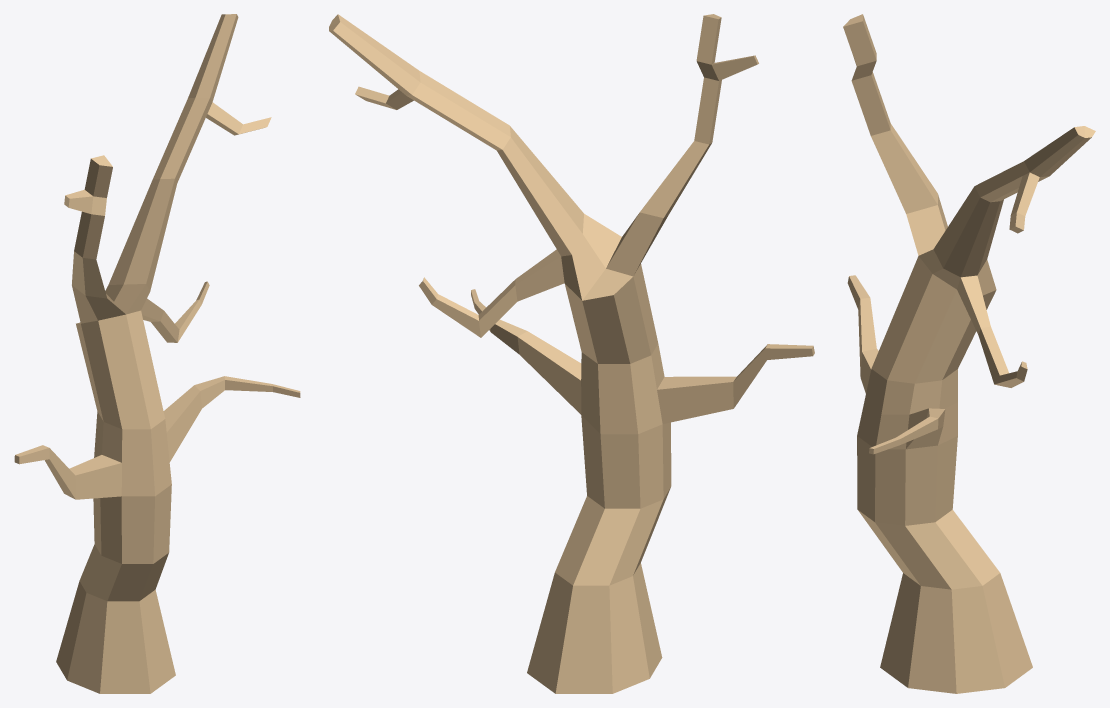
File: 01_06Tree_Red.fbx
The picture shows the model from 3 angles, left to right: view 1: azimuth 30°, elevation 25°; view 2: azimuth 150°, elevation 25°; view 3: azimuth 270°, elevation 25°; orthographic projection. The views are drawn at different scales.
Parts seen in each view (by area): view 1: Cube.014; view 2: Cube.014; view 3: Cube.014.
Part boxes in pixels (x1,y1,x2,y2): Cube.014: [14, 14, 300, 693]; Cube.014: [329, 14, 814, 693]; Cube.014: [843, 14, 1095, 693].
Size of the model in its own units: 110 by 186 by 65.71.
